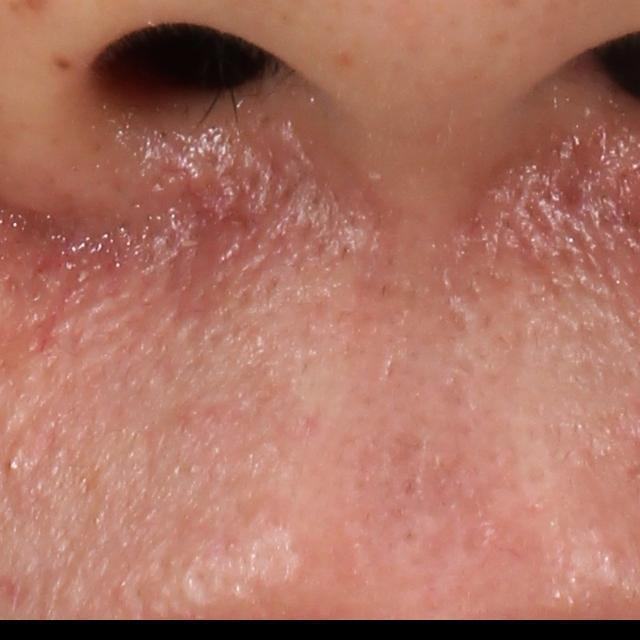atrophic_scar: (152, 175, 266, 281)
comedo: (0, 453, 26, 478)
